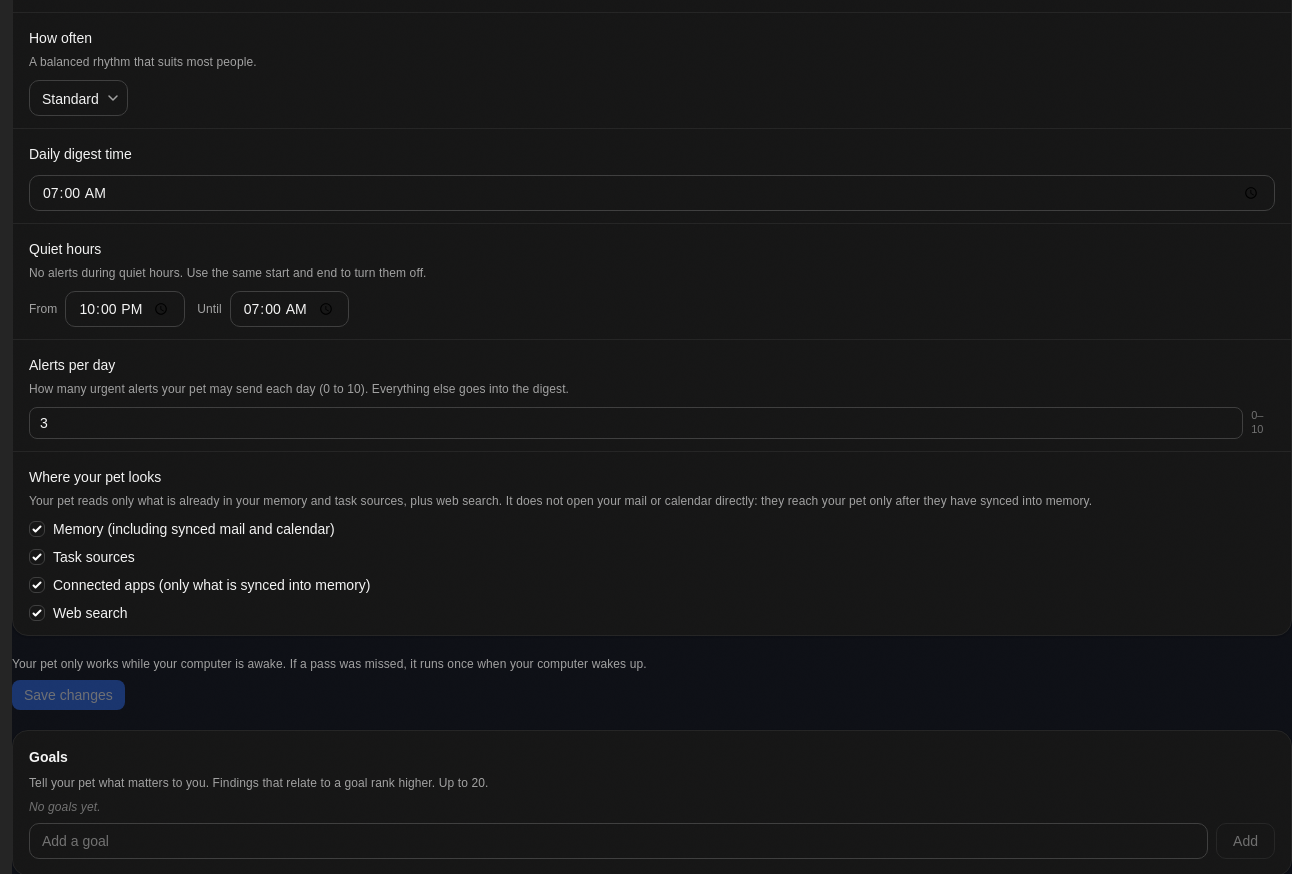
Test case: PetSettingsTab › shows a goal error when the core rejects the change
(page scrolled)
Type "x" into the field with test id "pet-goal-input" at (619, 841), box left=29, top=823, right=1208, bottom=859
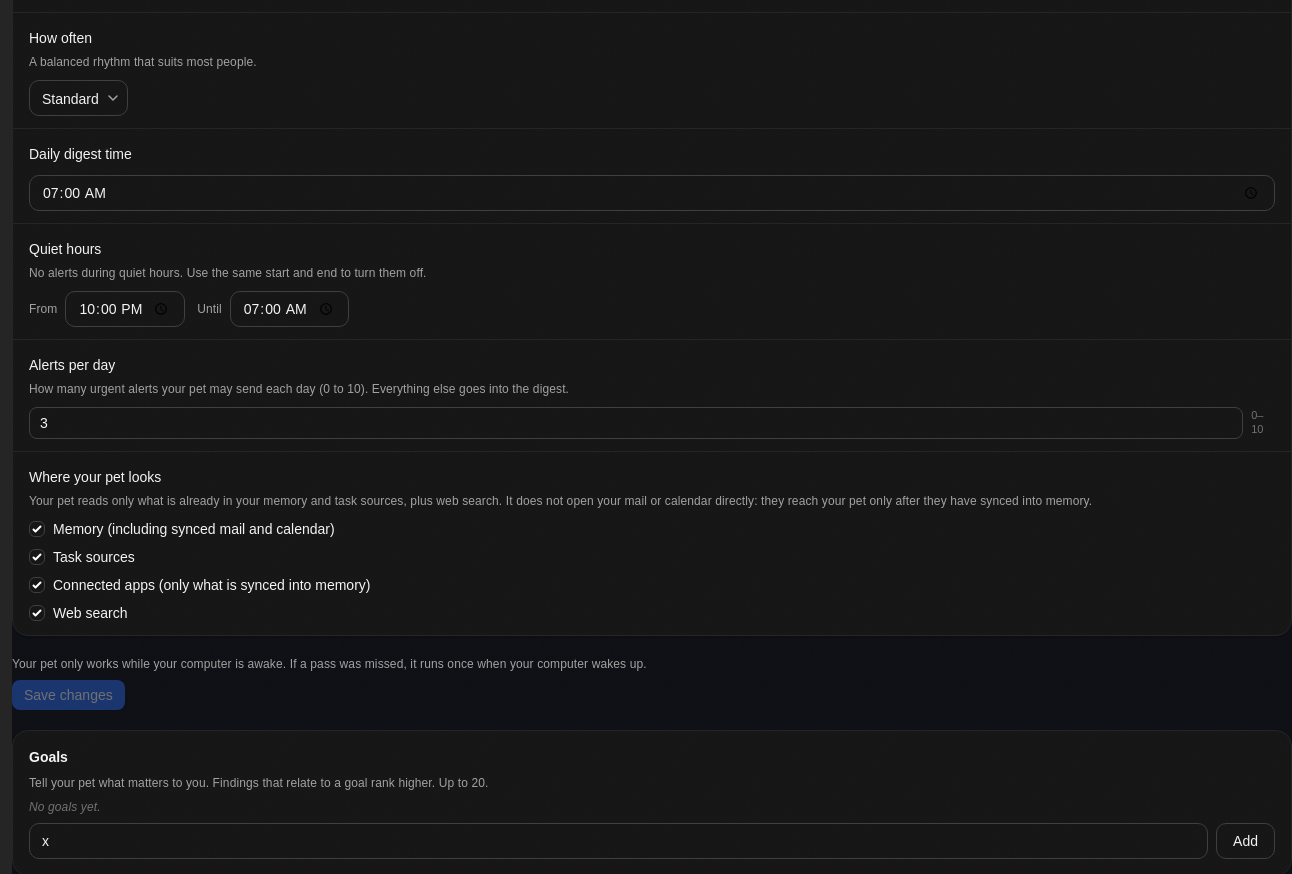
Click the button with test id "pet-goal-add" at (1246, 841), box left=1216, top=823, right=1275, bottom=859
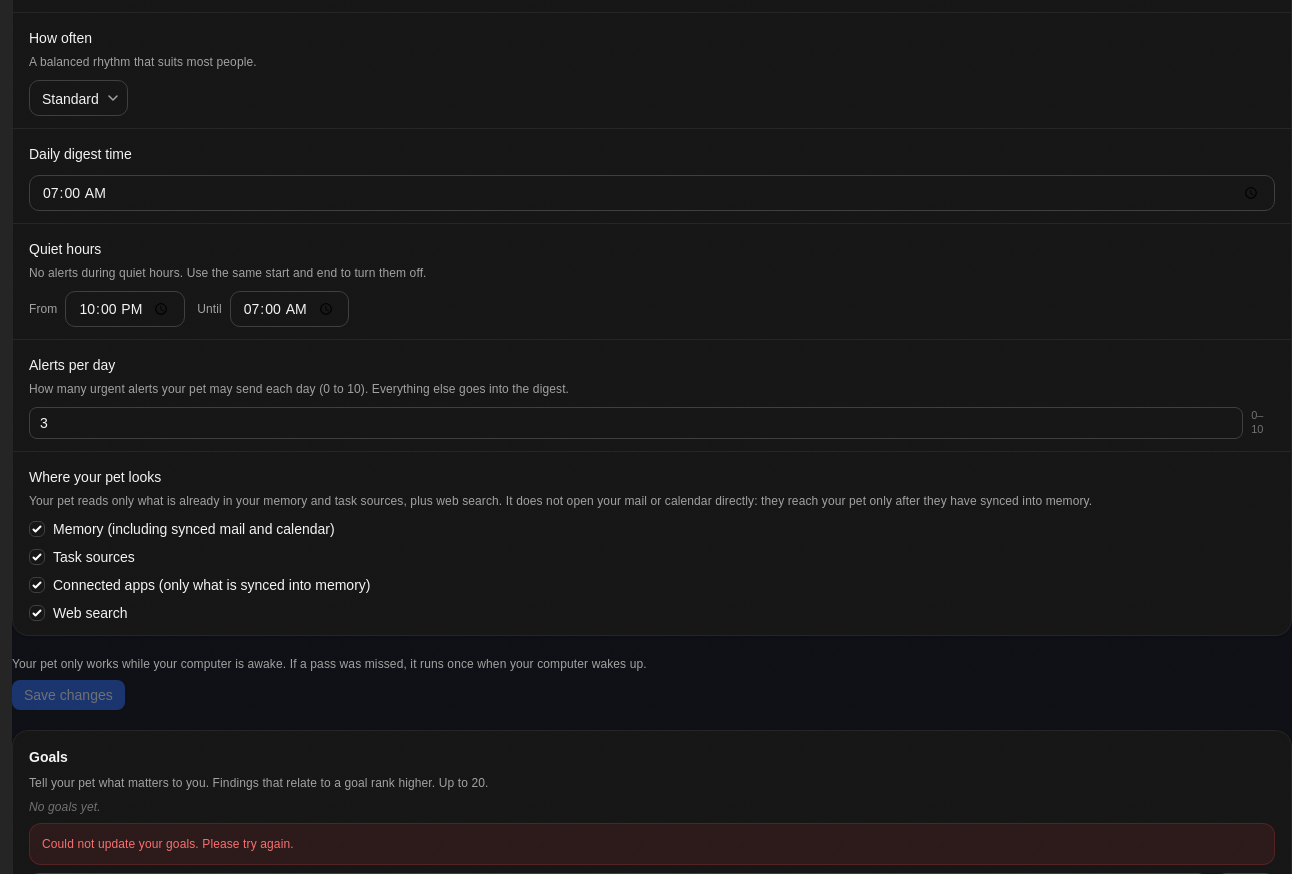
Now the message shows "Could not update your goals", box left=42, top=837, right=294, bottom=851
